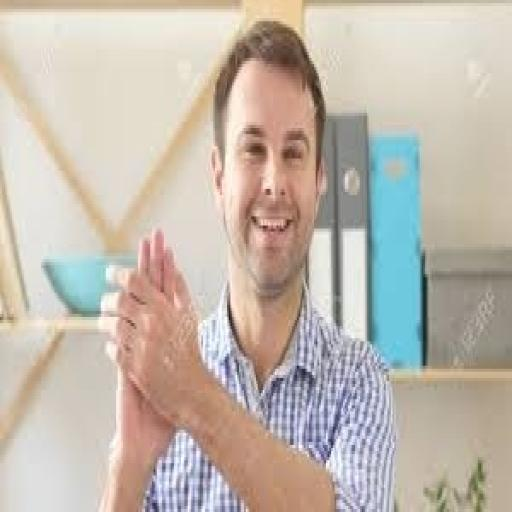clapping: (97, 15, 398, 509)
